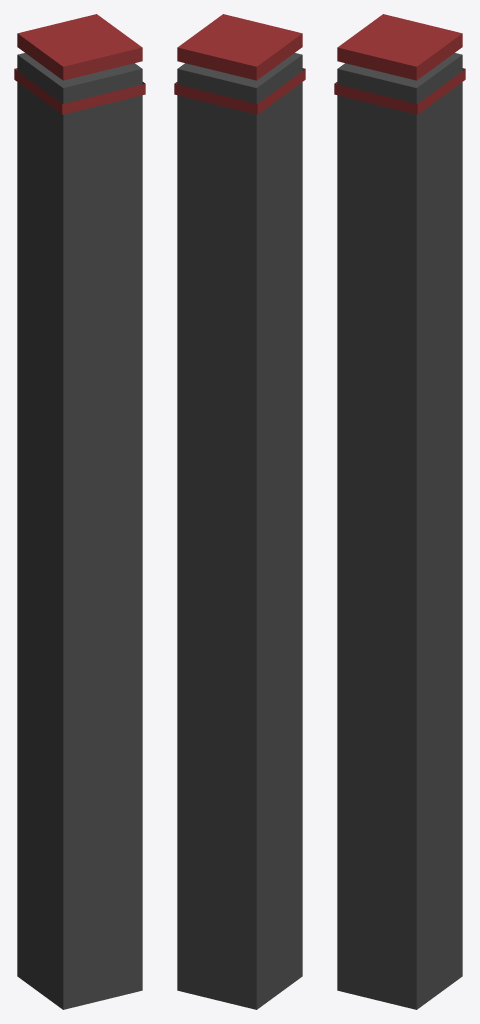
The model's file is JumpPlatform.fbx.
The picture shows the model from 3 angles, left to right: view 1: azimuth 30°, elevation 25°; view 2: azimuth 150°, elevation 25°; view 3: azimuth 330°, elevation 25°; orthographic projection.
Visible parts, largest first — view 1: JumpPlatform, Jump; view 2: JumpPlatform, Jump; view 3: JumpPlatform, Jump.
Boxes of the visible parts, x1,y1,x2,y2 form: JumpPlatform: (14,53,145,1009); Jump: (17,14,142,80); JumpPlatform: (174,53,305,1009); Jump: (177,14,302,80); JumpPlatform: (334,53,465,1009); Jump: (337,14,462,80).
Bounding box in the file's own units: 0.9463 × 10.23 × 0.9463.
